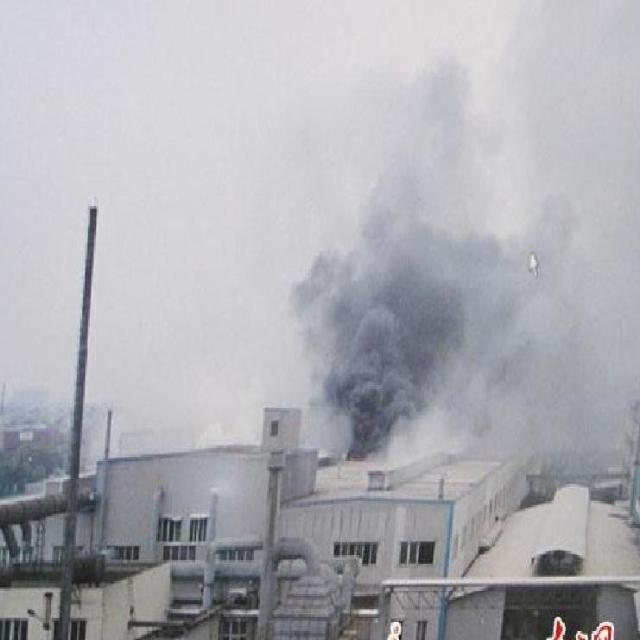Smoke: (286, 192, 572, 462)
